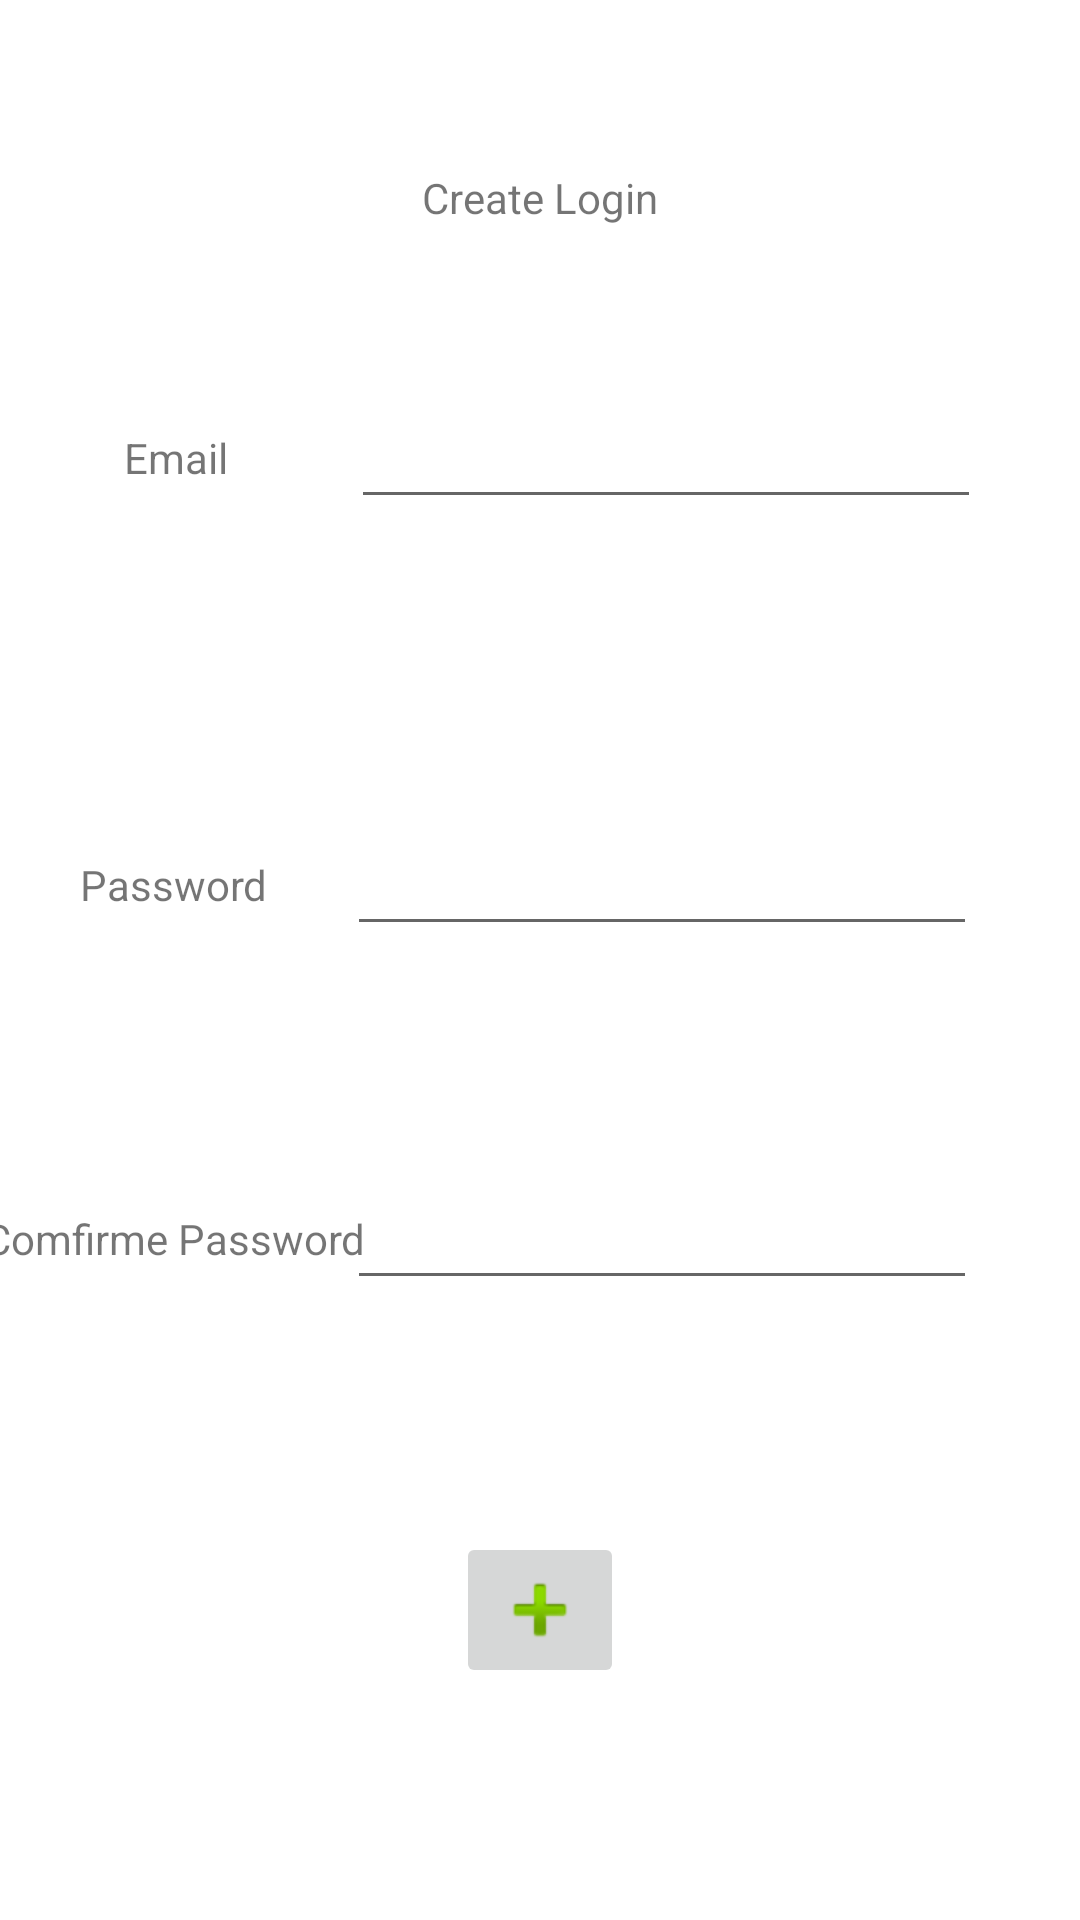

Icon click points for this 1080 x 1920 phone screenshot, format [x,y]:
add: [540,1610]
